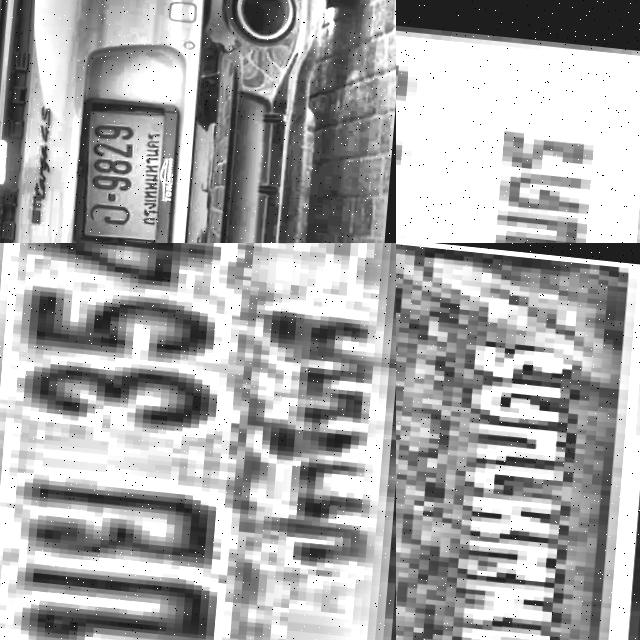license-plate: (0, 243, 396, 640), (396, 243, 640, 640), (396, 0, 640, 243), (66, 84, 192, 243)
